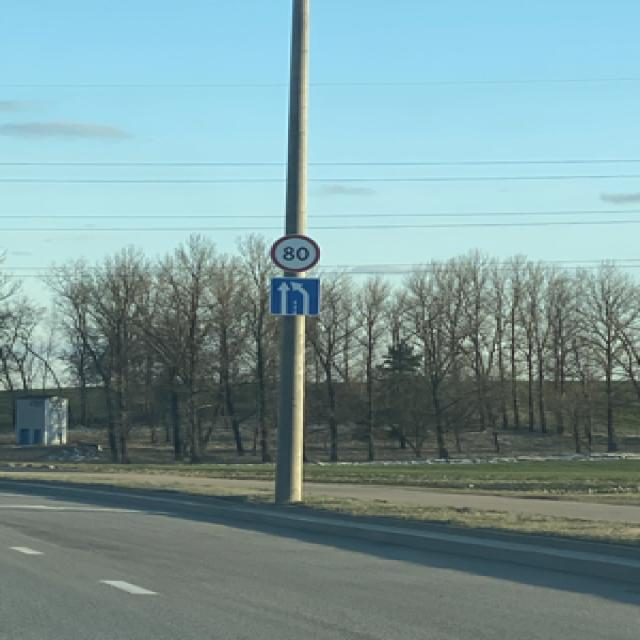speedlimit: (267, 233, 318, 270)
